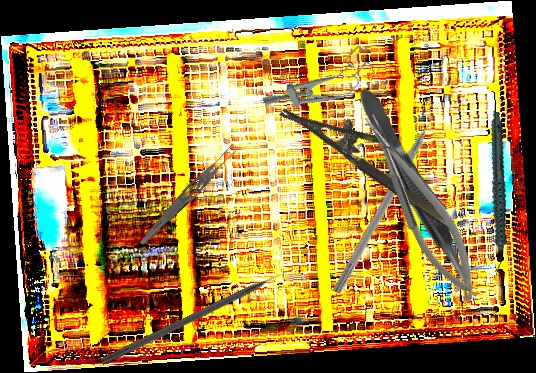Dressing Forceps: (137, 140, 241, 251)
Handpiece: (460, 110, 534, 273)
Hook Surgical: (100, 268, 290, 368)
Needle Holder: (278, 80, 472, 233), (355, 103, 490, 310)
Pusher: (331, 102, 447, 296)
Speculum: (258, 43, 382, 128)
Tissue Forceps: (354, 82, 479, 294)
